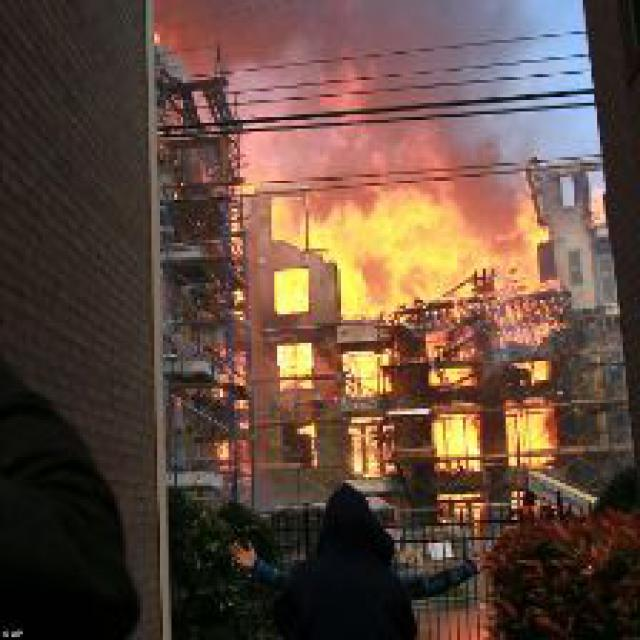fire: (271, 183, 566, 454)
